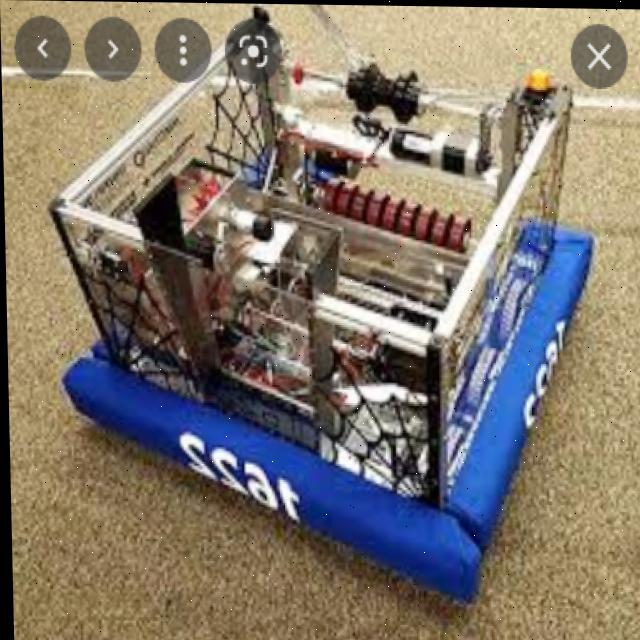robot: (45, 29, 599, 609)
